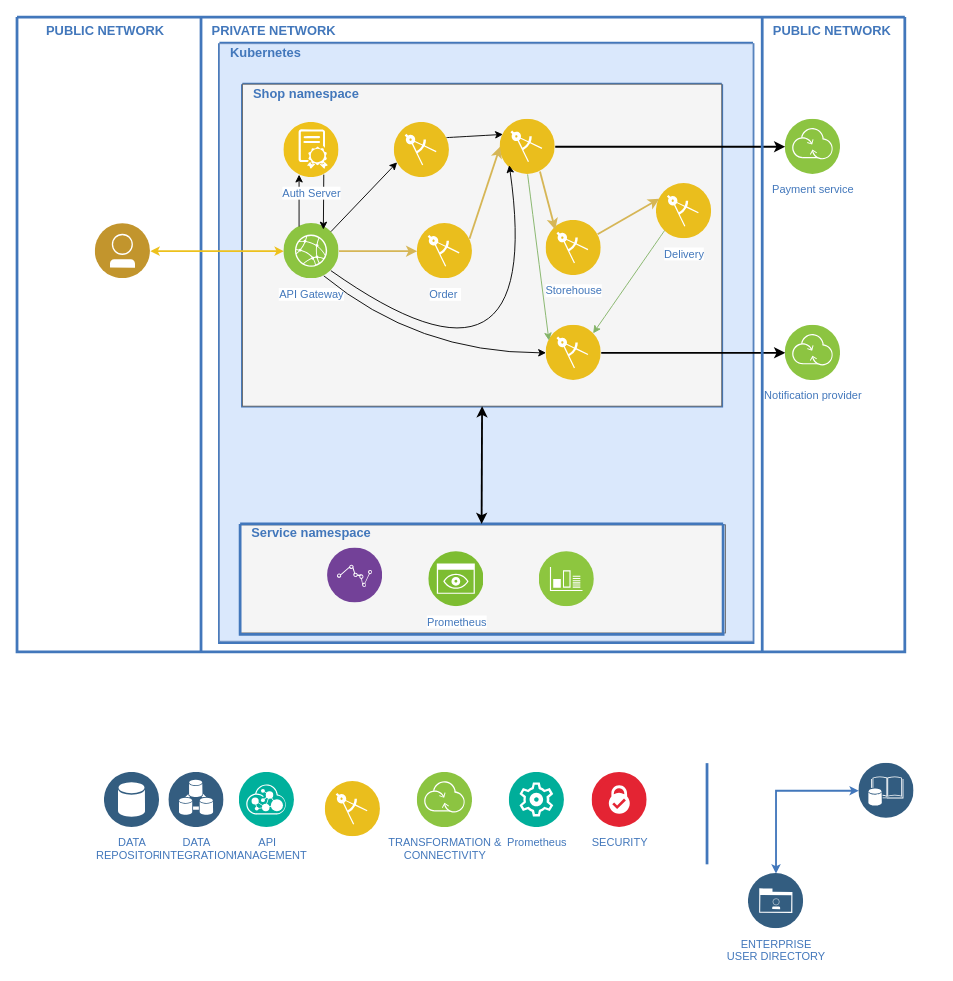
Image size: 953x981. Some labels were removed from this diagram. Each missing label, with the centre of its shape:
"Billing" goes at [527,146].
"ENTERPRISE APPLICATIONS" goes at [352,808].
"ENTERPRISE DATA" goes at [886,790].
"Jaeger" goes at [354,575].
"Kibana" goes at [566,578].
"Notification" goes at [573,352].
"User" goes at [122,250].
"User Service" goes at [421,149].
